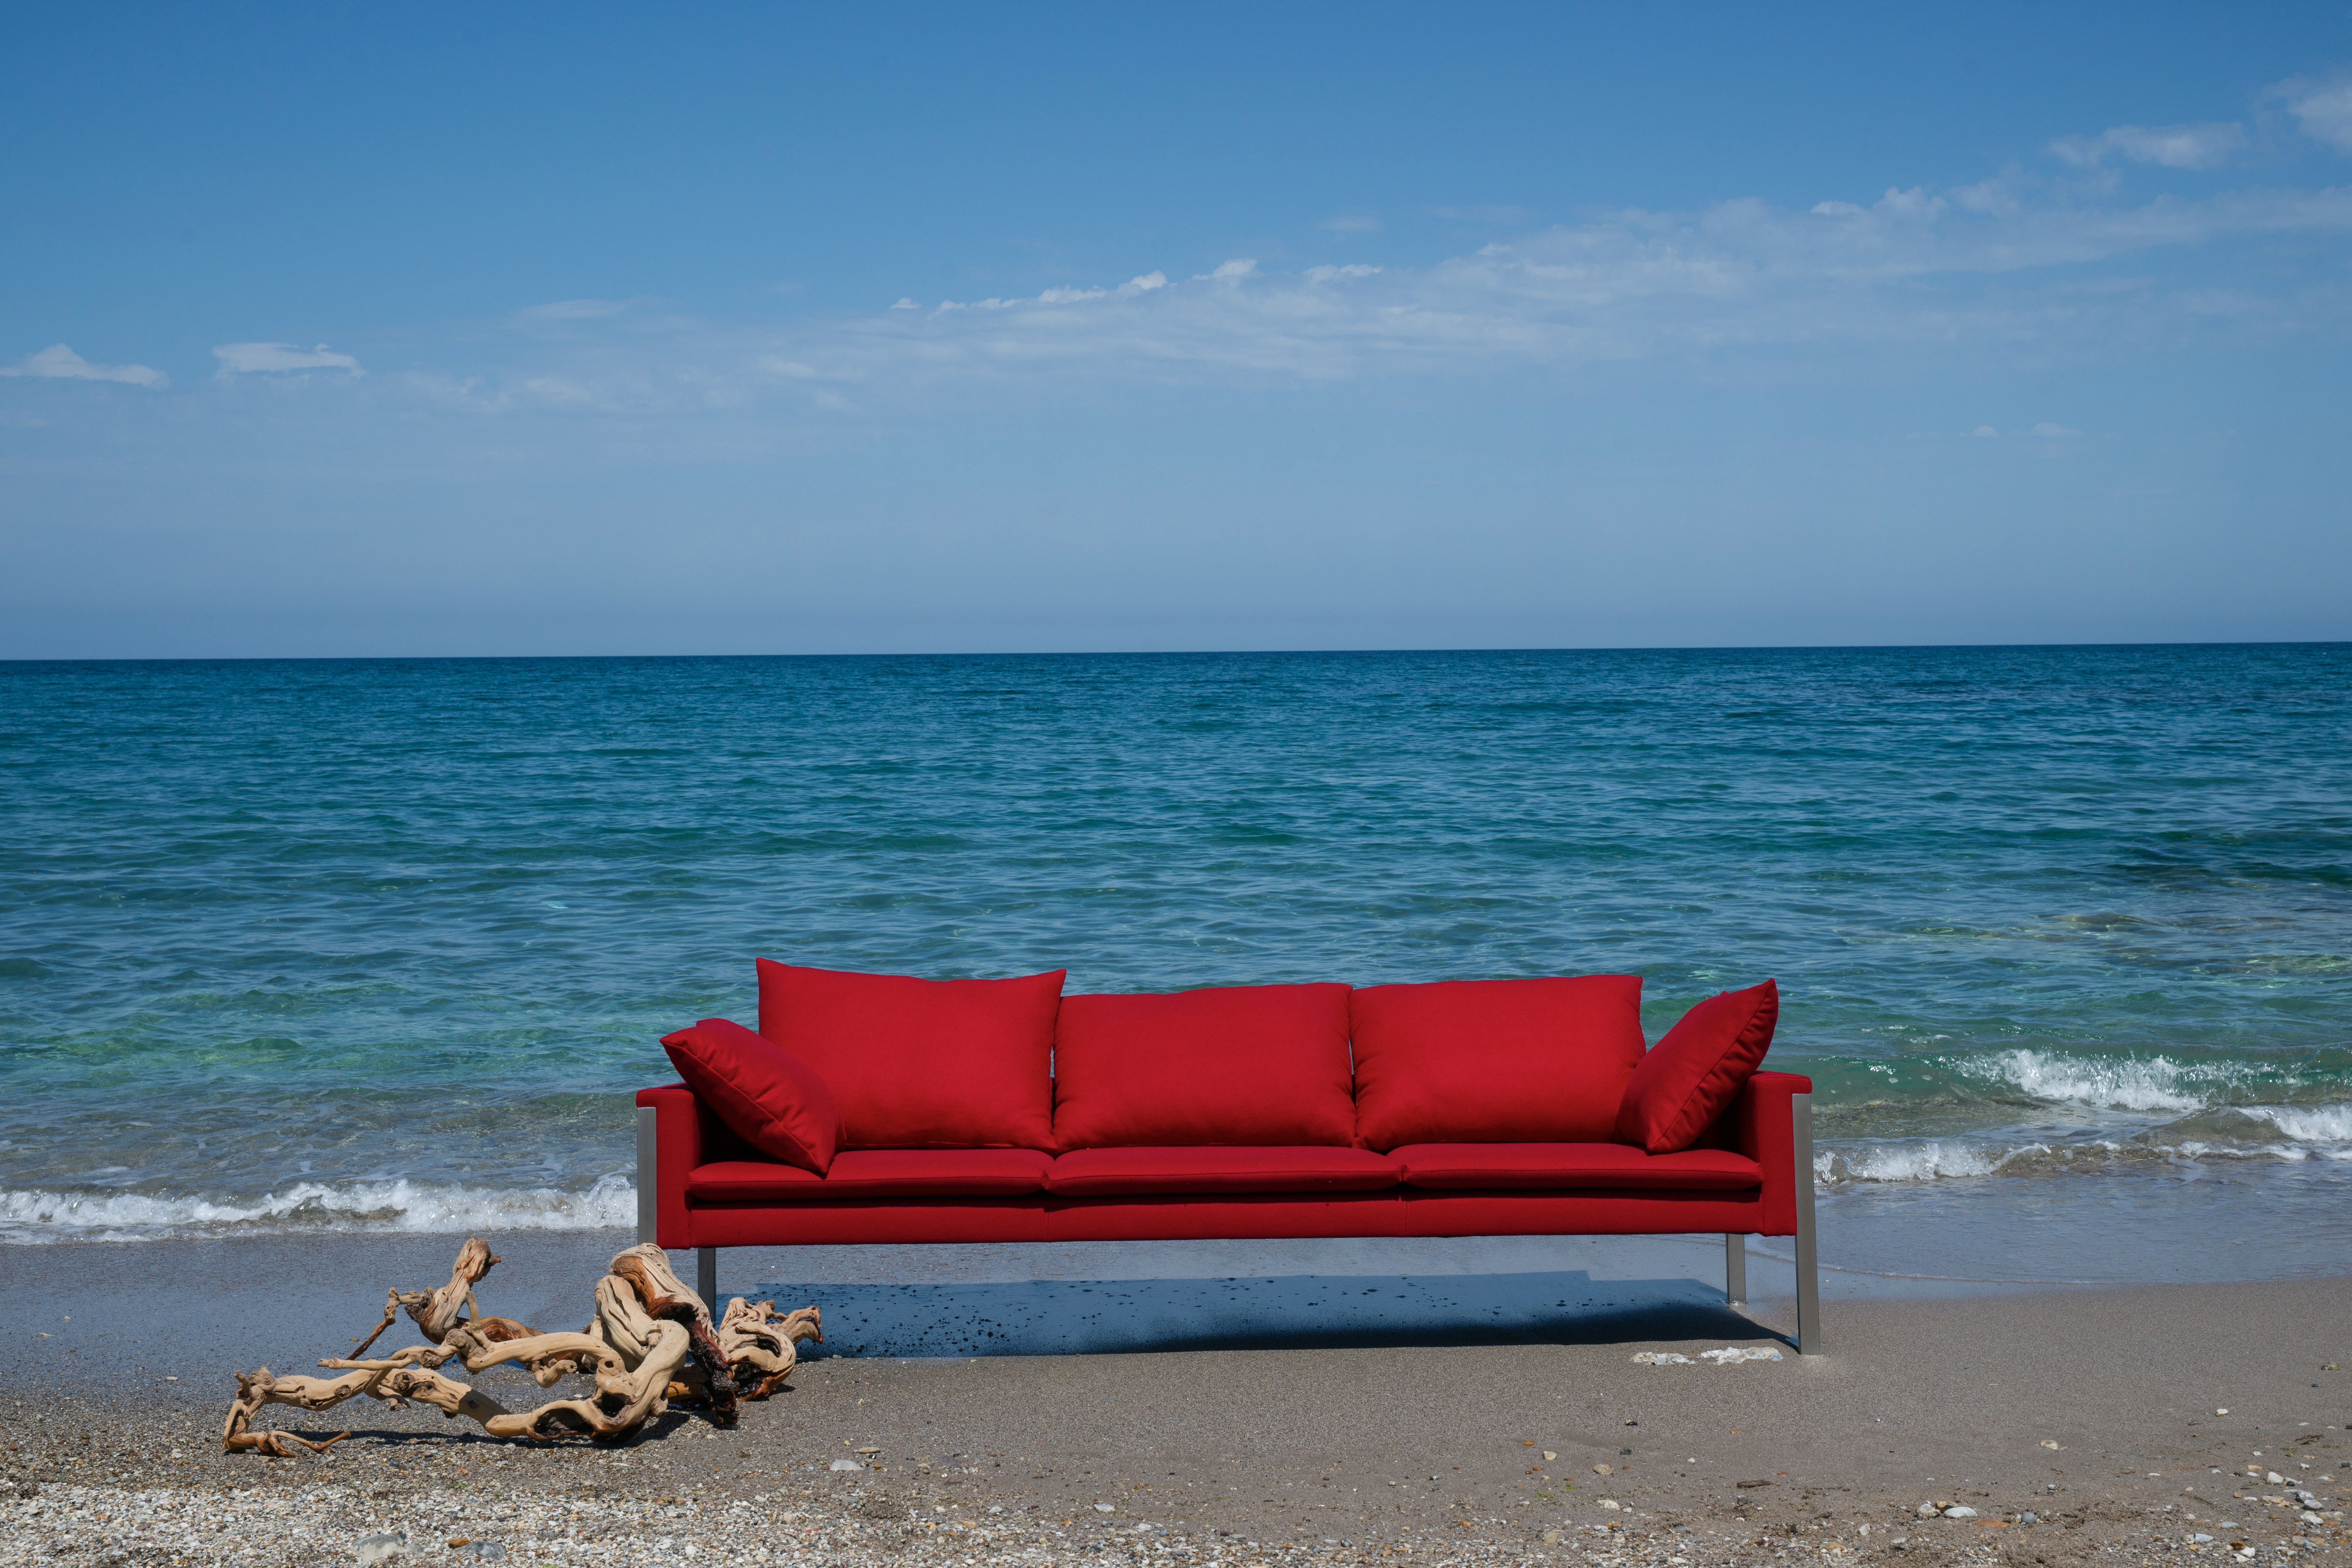Sofa: (577, 917, 1862, 1367)
